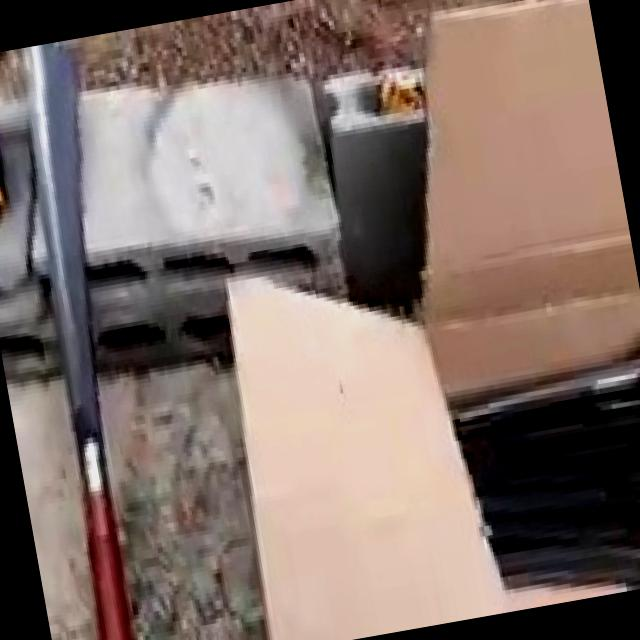eto: (21, 40, 131, 640)
